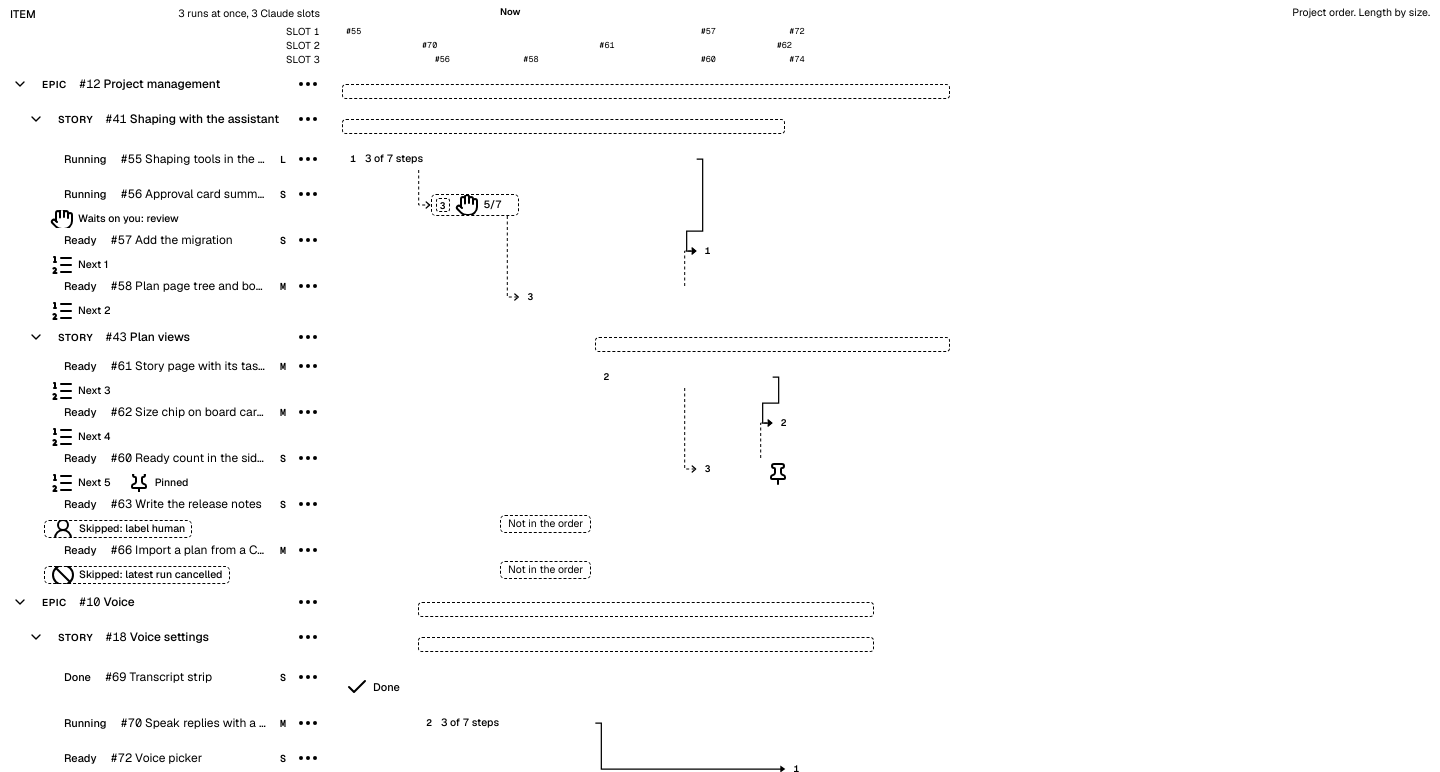
Test: clicking the pin unpins the card
The width and height of the screenshot is (1440, 772).
Click the button named "Unpin #60".
click(773, 469)  # box [766,462,780,476]
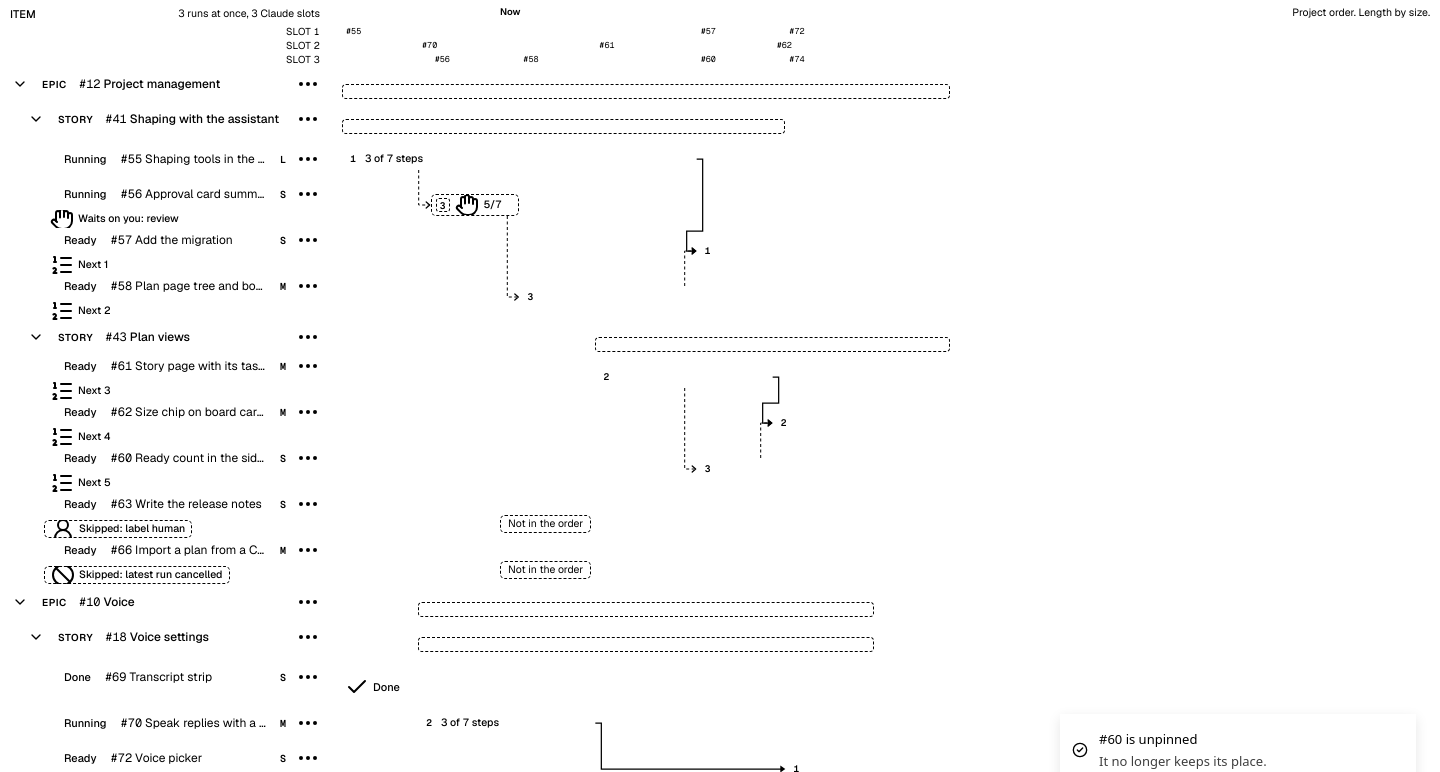
expect the text "#60 is unpinned" is shown: met, box [1099,730,1197,748]
